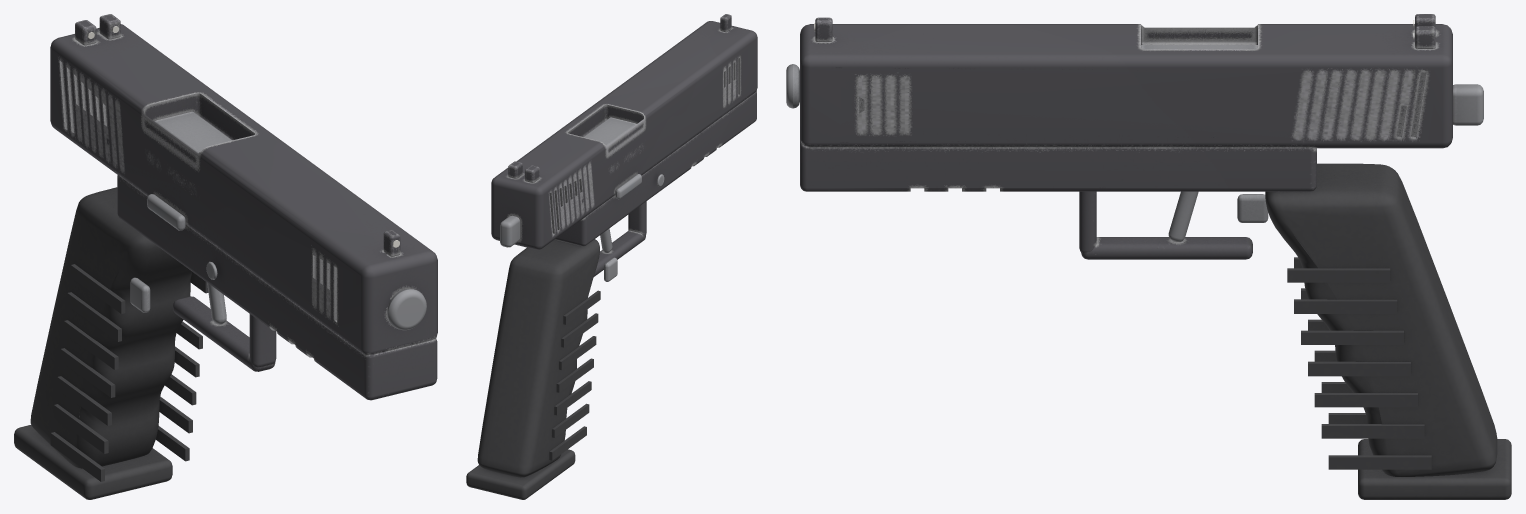
3 views of the same model, side by side, from view 1: azimuth 30°, elevation 25°; view 2: azimuth 150°, elevation 25°; view 3: azimuth 270°, elevation 25° (orthographic). The views are drawn at different scales.
Visible parts, largest first — view 1: cz75; view 2: cz75; view 3: cz75.
Part boxes in pixels (x1,y1,x2,y2): cz75: (14,14,437,499); cz75: (466,14,757,499); cz75: (786,14,1511,499).
Bounding box in the file's own units: 0.0311 × 0.148 × 0.2111.
